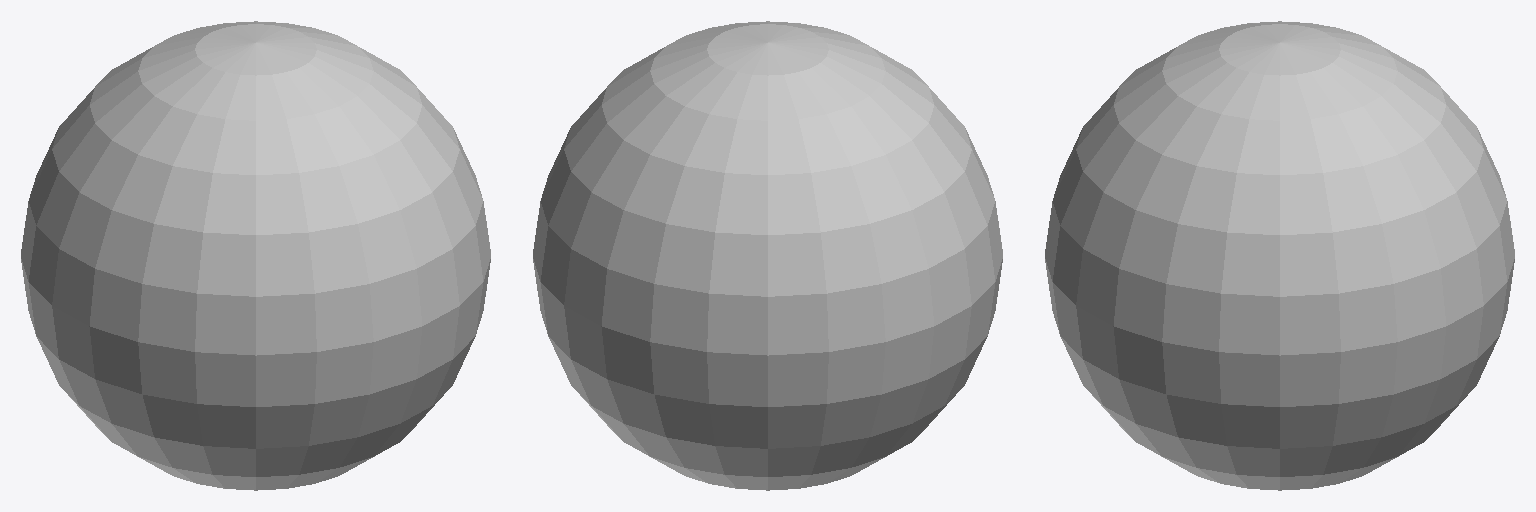
The model's file is Pinball_Ball.obj.
The picture shows the model from 3 angles: view 1: azimuth 30°, elevation 25°; view 2: azimuth 150°, elevation 25°; view 3: azimuth 270°, elevation 25°; orthographic projection.
Visible parts, largest first — view 1: Ball; view 2: Ball; view 3: Ball.
Boxes of the visible parts, box(x1,y1,x2,y2) form: Ball: box(21, 21, 490, 490); Ball: box(533, 21, 1002, 490); Ball: box(1045, 21, 1514, 490).
Size of the model in its own units: 0.3 by 0.3 by 0.3.